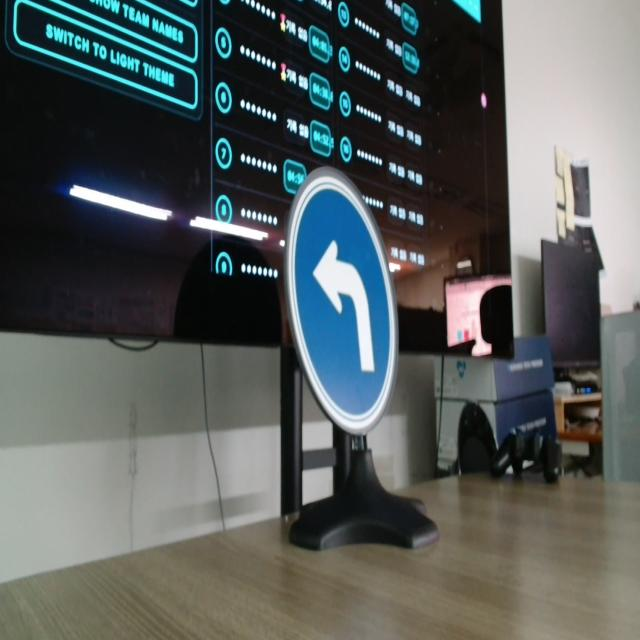left_direction: (272, 149, 453, 553)
